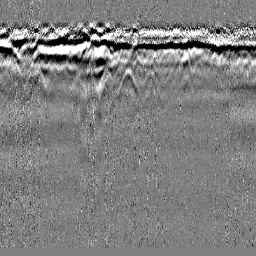cavity: (116, 65, 139, 98)
